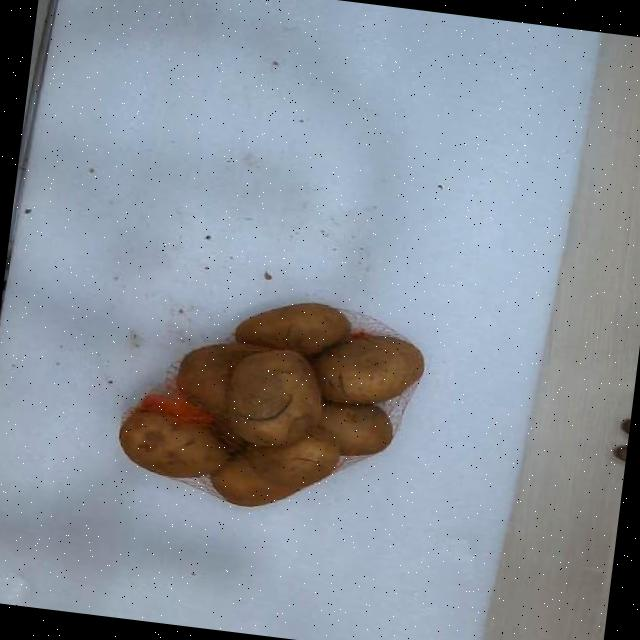potato: (225, 349, 320, 446), (312, 334, 423, 404), (118, 412, 226, 476), (175, 342, 266, 417), (235, 303, 348, 355), (245, 436, 338, 490), (210, 455, 296, 507), (318, 401, 391, 455)
